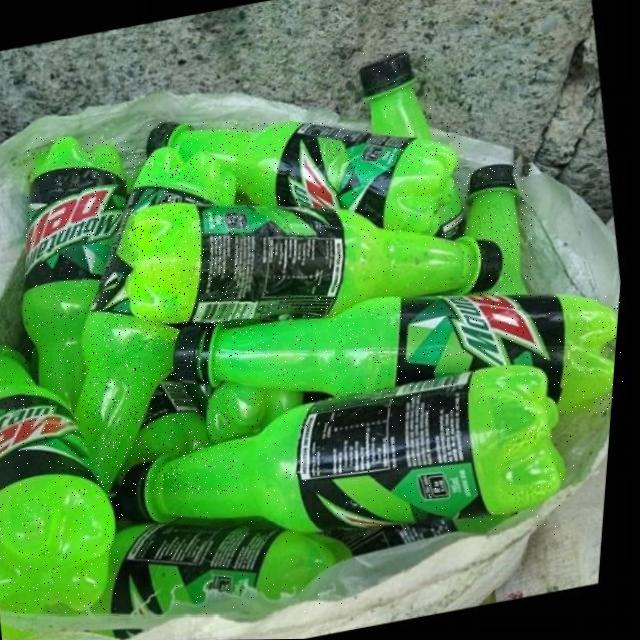plastic: (124, 365, 574, 535), (83, 149, 239, 494), (176, 296, 623, 414), (129, 204, 507, 328), (146, 123, 460, 234), (0, 345, 124, 615), (25, 136, 130, 409), (120, 522, 344, 616), (468, 166, 533, 296), (360, 54, 432, 142), (430, 181, 469, 242)
